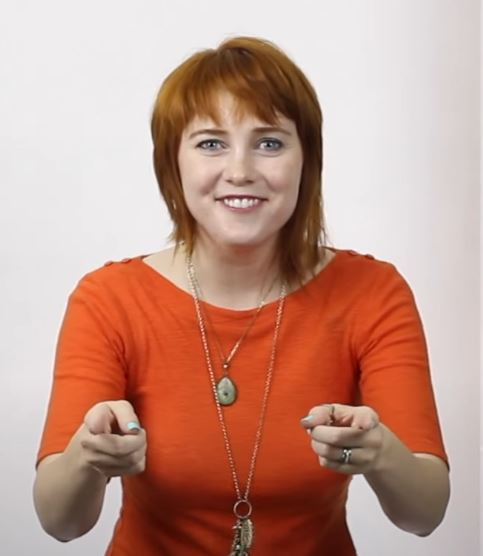go: (67, 376, 406, 490)
